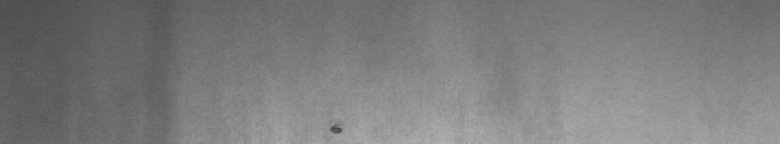fi: (328, 116, 347, 136)
